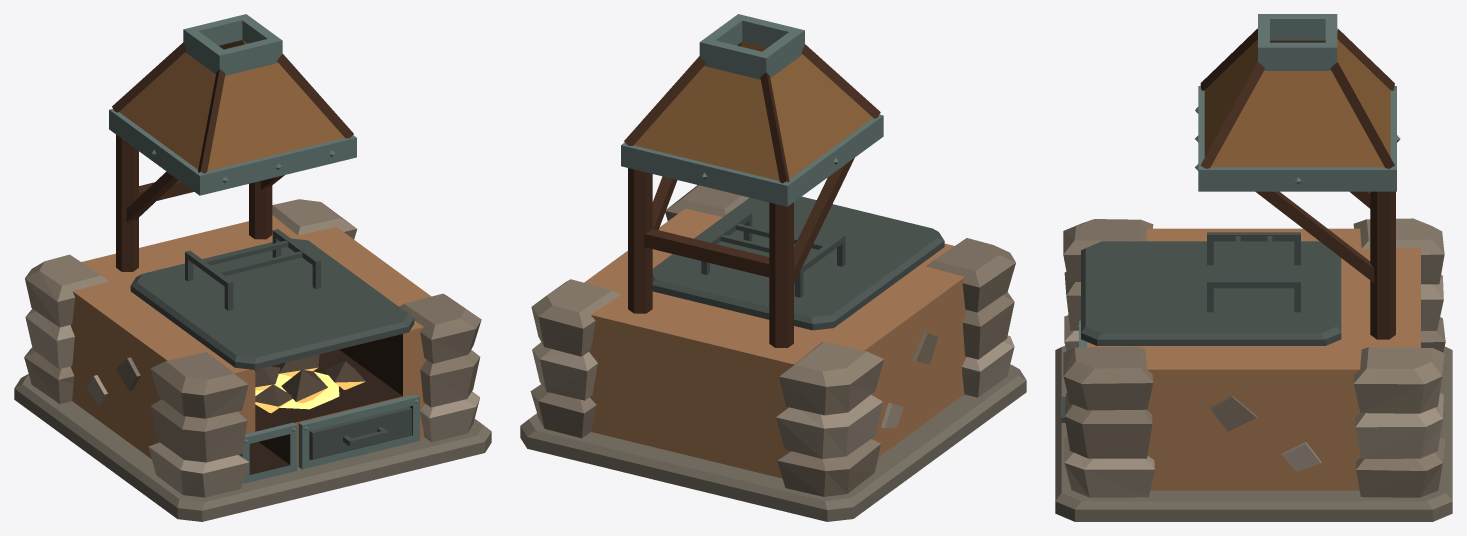
Rendered from deck-safe-clay-cooking-c8345b.glb.
3 renders of one model, left to right at view 1: azimuth 30°, elevation 25°; view 2: azimuth 150°, elevation 25°; view 3: azimuth 270°, elevation 25°, orthographic. The views are drawn at different scales.
Visible parts, largest first — view 1: hearth-body, hood-mesh, hotplate-mesh, ash-drawer-mesh, pot-rest-mesh, fire; view 2: hearth-body, hood-mesh, hotplate-mesh, pot-rest-mesh; view 3: hearth-body, hood-mesh, hotplate-mesh, pot-rest-mesh.
Boxes of the visible parts, bbox=[...] form: hearth-body: bbox=[14, 199, 491, 521]; hood-mesh: bbox=[109, 14, 356, 271]; hotplate-mesh: bbox=[130, 238, 414, 369]; ash-drawer-mesh: bbox=[309, 406, 412, 459]; pot-rest-mesh: bbox=[185, 229, 320, 310]; fire: bbox=[255, 367, 365, 413]; hearth-body: bbox=[520, 185, 1026, 521]; hood-mesh: bbox=[621, 14, 883, 347]; hotplate-mesh: bbox=[652, 196, 944, 330]; pot-rest-mesh: bbox=[701, 211, 845, 297]; hearth-body: bbox=[1055, 218, 1452, 521]; hood-mesh: bbox=[1195, 14, 1400, 339]; hotplate-mesh: bbox=[1081, 241, 1341, 345]; pot-rest-mesh: bbox=[1207, 232, 1300, 312].
Bounding box in the file's own units: 1 × 1.13 × 1.
